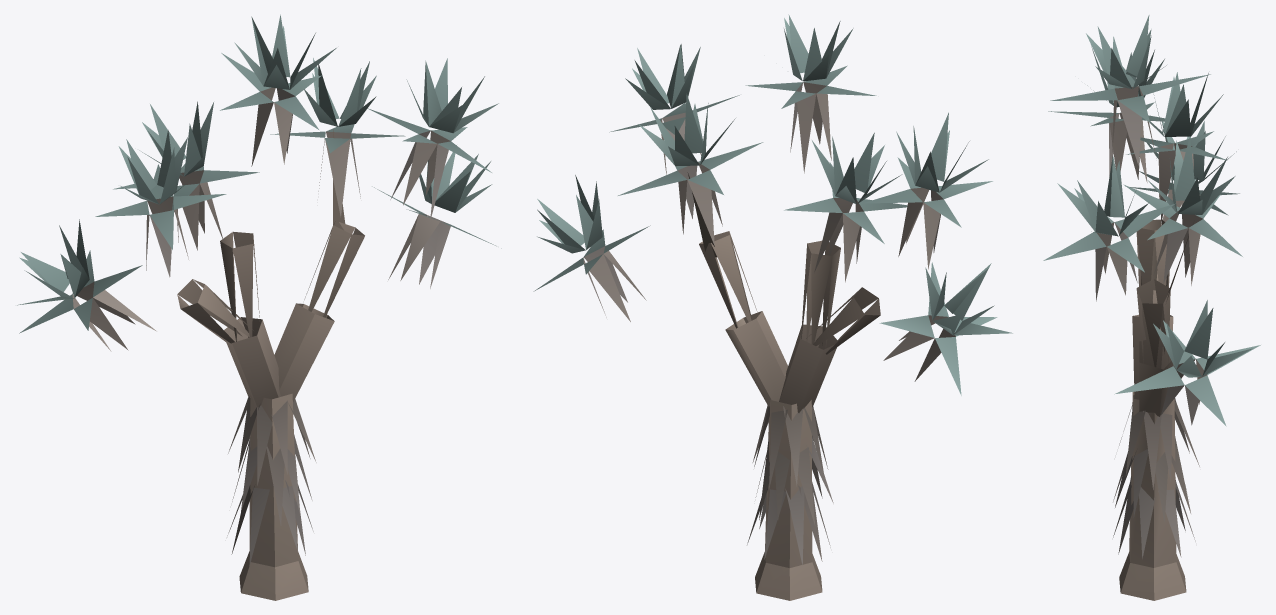
Rendered from joshua.lod.glb.
3 views of the same model, side by side, from view 1: azimuth 30°, elevation 25°; view 2: azimuth 150°, elevation 25°; view 3: azimuth 270°, elevation 25° (orthographic). The views are drawn at different scales.
Parts seen in each view (by area): view 1: joshua; view 2: joshua; view 3: joshua.
Part boxes in pixels (bbox=[...]): joshua: bbox=[17, 14, 501, 600]; joshua: bbox=[533, 14, 1012, 600]; joshua: bbox=[1043, 15, 1260, 600].
Bounding box in the file's own units: 5.27 × 6 × 2.13.
